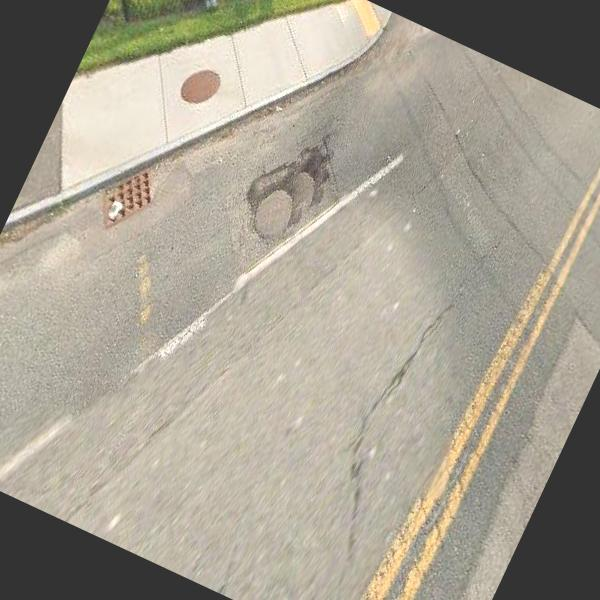manhole: (168, 48, 233, 124)
